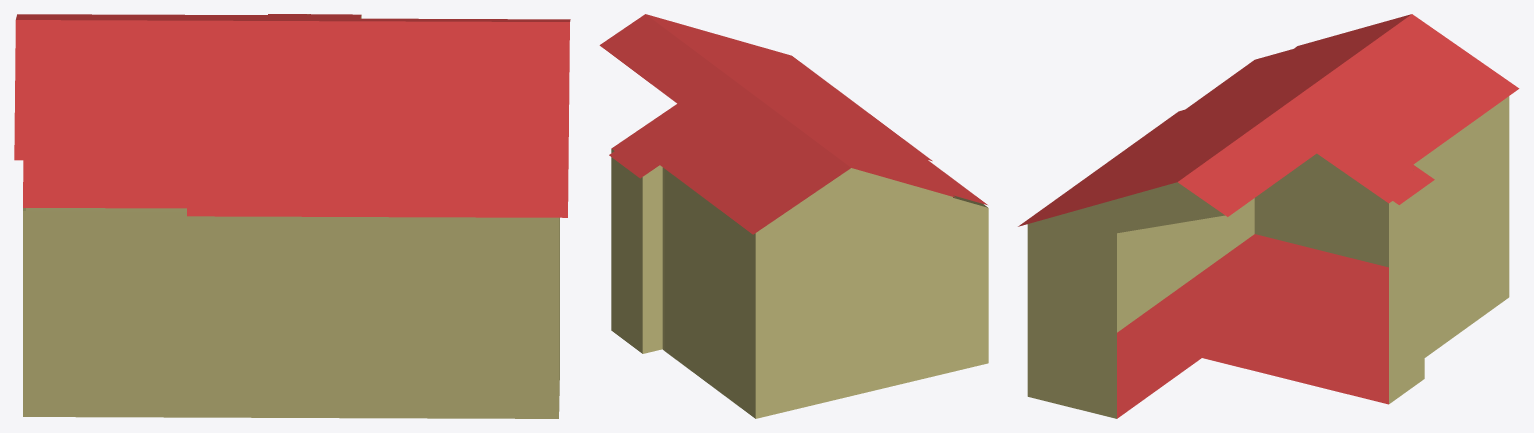
3 renders of one model, left to right at view 1: azimuth 30°, elevation 25°; view 2: azimuth 150°, elevation 25°; view 3: azimuth 270°, elevation 25°, orthographic. The views are drawn at different scales.
Size of the model in its own units: 16.97 by 16.65 by 9.35.
